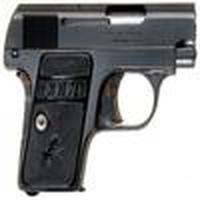gun: (3, 3, 194, 194)
